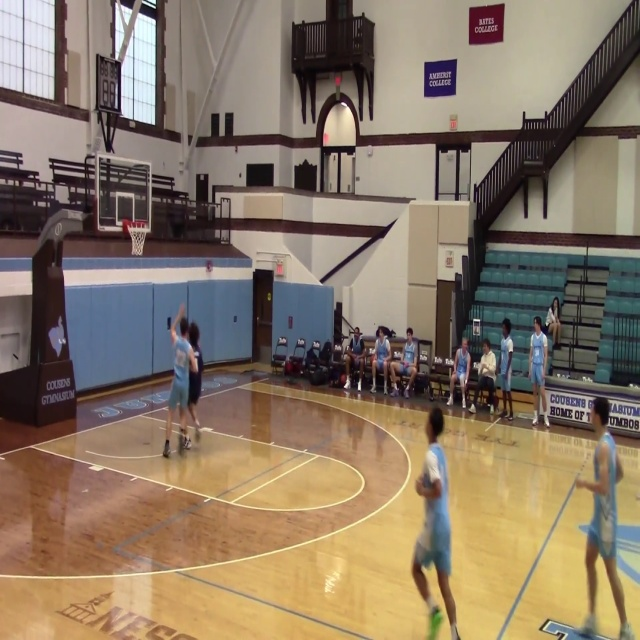Basketball: (415, 473, 441, 499), (339, 374, 346, 385)
